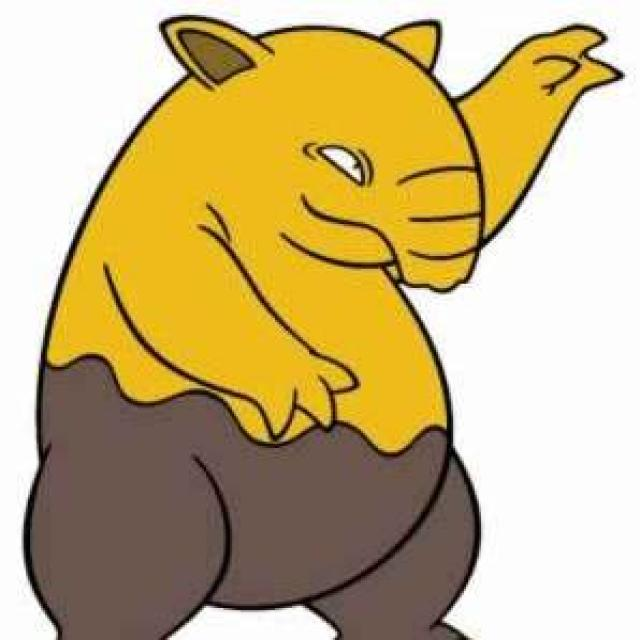Drowzee: (32, 0, 496, 640)
